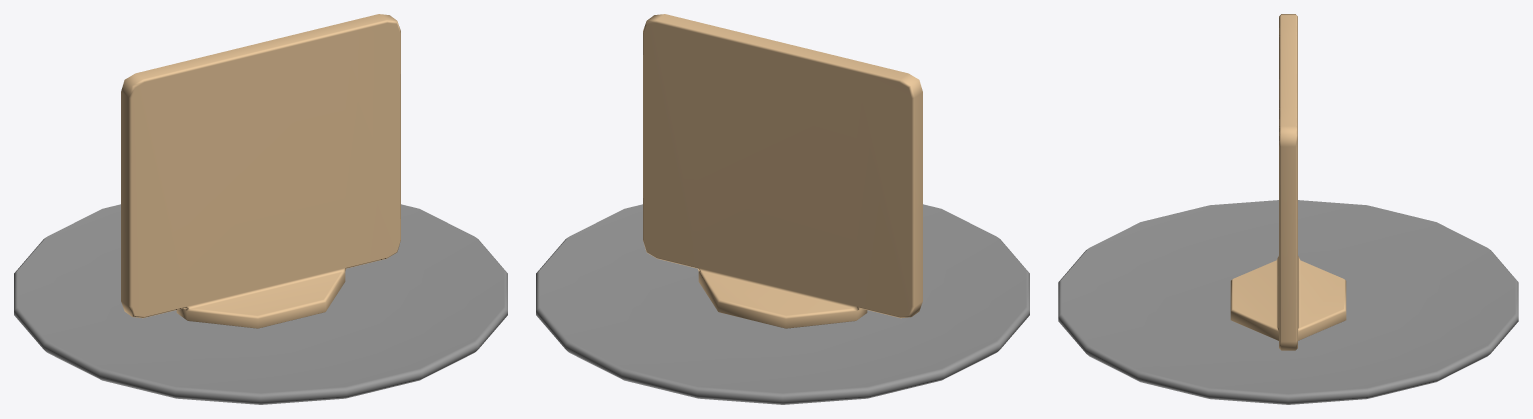
File: SM_PlateAndSign.FBX
3 renders of one model, left to right at view 1: azimuth 30°, elevation 25°; view 2: azimuth 150°, elevation 25°; view 3: azimuth 270°, elevation 25°, orthographic. The views are drawn at different scales.
Parts seen in each view (by area): view 1: PlateAndSign; view 2: PlateAndSign; view 3: PlateAndSign.
Boxes of the visible parts, x1,y1,x2,y2 form: PlateAndSign: (14,14,507,404); PlateAndSign: (536,14,1029,404); PlateAndSign: (1058,14,1518,404).
Size of the model in its own units: 19 by 11.93 by 18.71.
